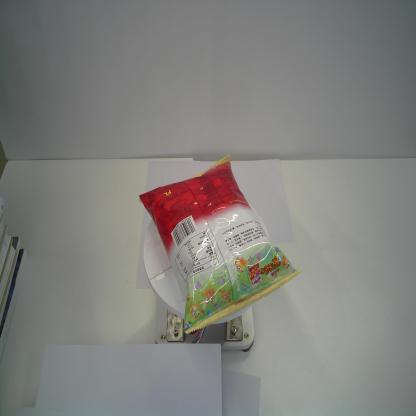Puffed Food: (138, 153, 301, 335)
